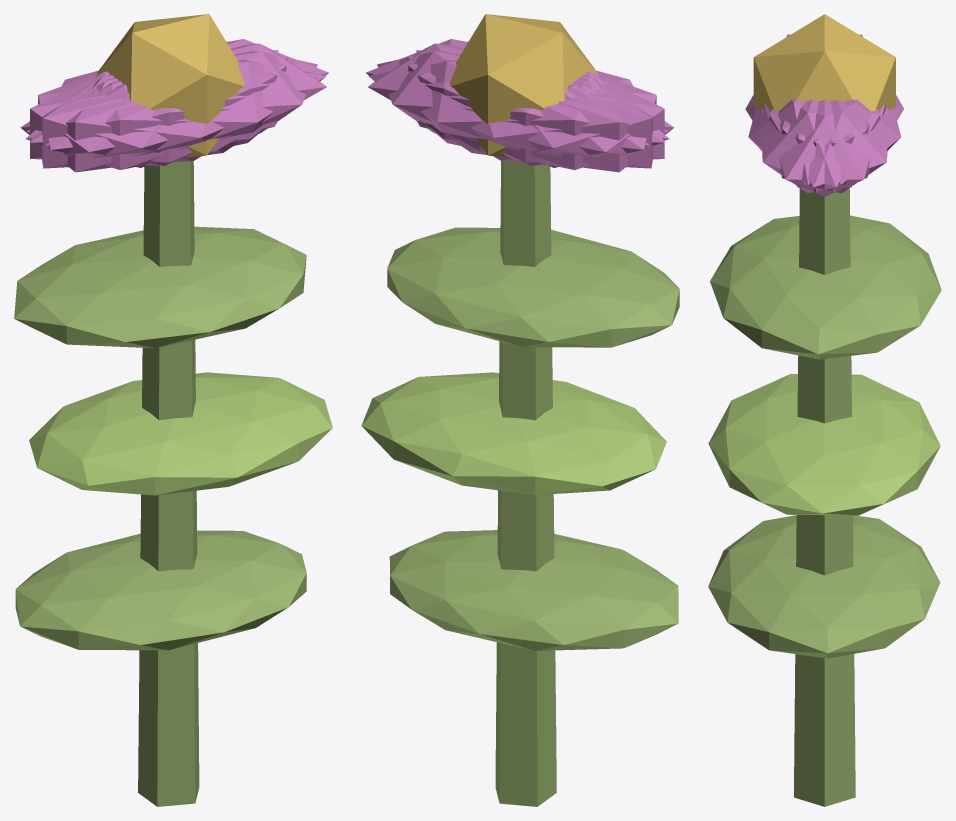
The model's file is hymenocallis-speciosa.glb.
3 renders of one model, left to right at view 1: azimuth 30°, elevation 25°; view 2: azimuth 150°, elevation 25°; view 3: azimuth 270°, elevation 25°, orthographic.
Visible parts, largest first — view 1: leaf1, leaf2, leaf0, stem, center, petal1, petal6, petal2, petal5, petal7, petal0, petal4 (+2 smaller); view 2: leaf2, leaf1, leaf0, stem, center, petal8, petal3, petal7, petal4, petal2, petal0, petal5 (+2 smaller); view 3: leaf1, leaf2, leaf0, stem, center, petal0, petal5, petal4, petal1, petal8.
Boxes of the visible parts, x1=… form: leaf1: x1=29, y1=372, x2=332, y2=495; leaf2: x1=14, y1=226, x2=306, y2=348; leaf0: x1=15, y1=530, x2=306, y2=650; stem: x1=138, y1=161, x2=199, y2=806; center: x1=96, y1=14, x2=244, y2=157; petal1: x1=25, y1=59, x2=325, y2=169; petal6: x1=20, y1=73, x2=238, y2=172; petal2: x1=41, y1=50, x2=278, y2=168; petal5: x1=46, y1=51, x2=317, y2=162; petal7: x1=30, y1=56, x2=287, y2=165; petal0: x1=96, y1=43, x2=326, y2=151; petal4: x1=26, y1=39, x2=328, y2=142; leaf2: x1=387, y1=227, x2=679, y2=347; leaf1: x1=361, y1=372, x2=666, y2=494; leaf0: x1=389, y1=530, x2=678, y2=650; stem: x1=495, y1=161, x2=556, y2=806; center: x1=450, y1=14, x2=598, y2=157; petal8: x1=368, y1=59, x2=669, y2=170; petal3: x1=456, y1=73, x2=674, y2=172; petal7: x1=416, y1=50, x2=652, y2=168; petal4: x1=377, y1=51, x2=648, y2=162; petal2: x1=407, y1=56, x2=664, y2=165; petal0: x1=368, y1=43, x2=598, y2=151; petal5: x1=366, y1=39, x2=667, y2=142; leaf1: x1=708, y1=374, x2=940, y2=515; leaf2: x1=710, y1=215, x2=941, y2=359; leaf0: x1=708, y1=515, x2=940, y2=658; stem: x1=794, y1=188, x2=855, y2=806; center: x1=753, y1=14, x2=895, y2=111; petal0: x1=763, y1=99, x2=885, y2=196; petal5: x1=762, y1=99, x2=880, y2=193; petal4: x1=769, y1=100, x2=887, y2=193; petal1: x1=748, y1=99, x2=869, y2=184; petal8: x1=780, y1=99, x2=900, y2=184.
Size of the model in its own units: 0.1498 by 0.3611 by 0.1005.
